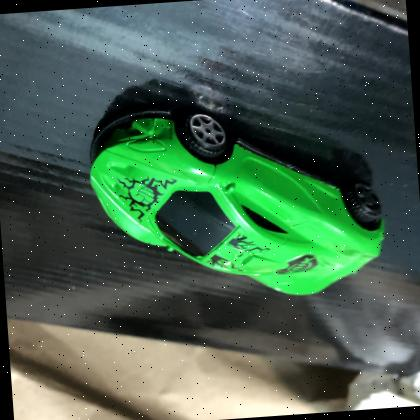Car: (88, 107, 386, 295)
